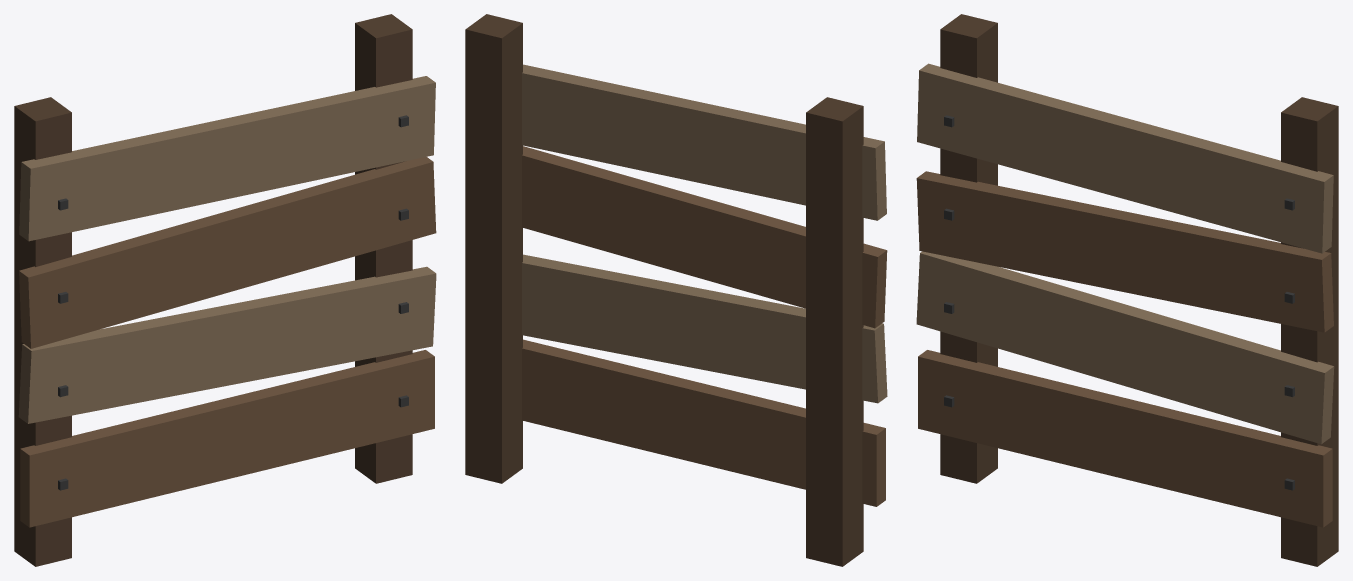
File: prop_barricade_planks_0.glb
The picture shows the model from 3 angles, left to right: view 1: azimuth 30°, elevation 25°; view 2: azimuth 150°, elevation 25°; view 3: azimuth 330°, elevation 25°; orthographic projection.
Visible parts, largest first — view 1: prop_barricade_planks_0; view 2: prop_barricade_planks_0; view 3: prop_barricade_planks_0.
Part boxes in pixels (x1,y1,x2,y2): prop_barricade_planks_0: [14, 14, 436, 566]; prop_barricade_planks_0: [465, 14, 887, 566]; prop_barricade_planks_0: [916, 14, 1338, 566].
Bounding box in the file's own units: 1.01 × 1.05 × 0.135.
